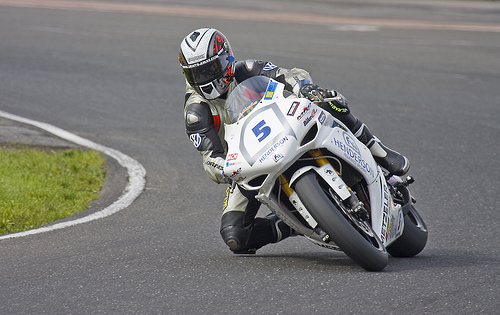helmet: (175, 26, 234, 100)
